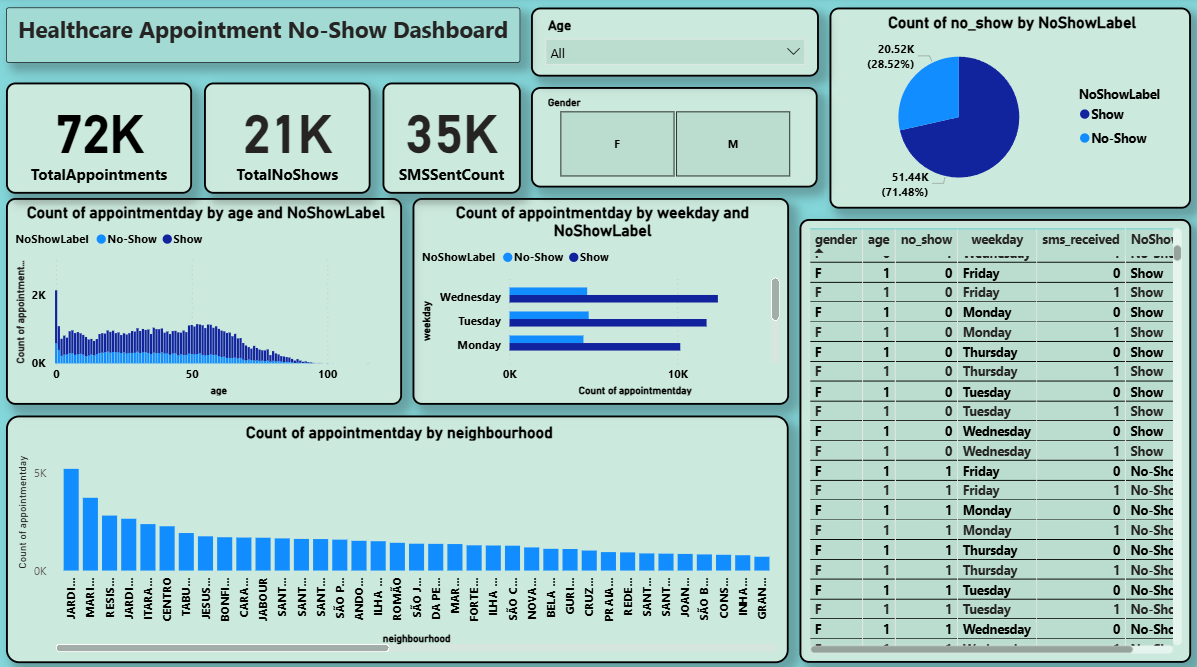

What the dashboard file says about the page in this screenshot:
{"tool":"powerbi","page":{"name":"Page 1","canvas":[1280,720],"ordinal":0},"visuals":[{"type":"pieChart","fields":{"Category":["cleaned_appointments_for_powerbi.NoShowLabel"],"Y":["CountNonNull(cleaned_appointments_for_powerbi.no_show)"]},"box":[886,11.1,383.3,213.1],"z":0},{"type":"clusteredBarChart","fields":{"Category":["cleaned_appointments_for_powerbi.weekday"],"Series":["cleaned_appointments_for_powerbi.NoShowLabel"],"Y":["CountNonNull(cleaned_appointments_for_powerbi.appointmentday)"]},"box":[443.8,213.1,399.2,219.5],"z":1000},{"type":"columnChart","fields":{"Category":["cleaned_appointments_for_powerbi.age"],"Y":["CountNonNull(cleaned_appointments_for_powerbi.appointmentday)"],"Series":["cleaned_appointments_for_powerbi.NoShowLabel"]},"box":[12.7,213.1,419.9,219.5],"z":2000},{"type":"clusteredColumnChart","fields":{"Category":["cleaned_appointments_for_powerbi.neighbourhood"],"Y":["CountNonNull(cleaned_appointments_for_powerbi.appointmentday)"]},"box":[12.7,443.8,830.3,262.5],"z":3000},{"type":"tableEx","fields":{"Values":["cleaned_appointments_for_powerbi.gender","cleaned_appointments_for_powerbi.age","cleaned_appointments_for_powerbi.no_show","cleaned_appointments_for_powerbi.weekday","cleaned_appointments_for_powerbi.sms_received","cleaned_appointments_for_powerbi.NoShowLabel"]},"box":[854.2,235.4,415.1,470.8],"z":4000},{"type":"card","fields":{"Values":["cleaned_appointments_for_powerbi.TotalAppointments"]},"box":[12.7,90.7,197.2,117.7],"z":5000},{"type":"card","fields":{"Values":["cleaned_appointments_for_powerbi.TotalNoShows"]},"box":[222.7,90.7,176.6,117.7],"z":6000},{"type":"card","fields":{"Values":["cleaned_appointments_for_powerbi.SMSSentCount"]},"box":[412,90.7,146.3,117.7],"z":7000},{"type":"slicer","fields":{"Values":["cleaned_appointments_for_powerbi.gender"]},"box":[569.4,95.4,303.8,106.6],"z":8000},{"type":"slicer","fields":{"Values":["cleaned_appointments_for_powerbi.age"]},"box":[569.4,11.1,305.4,73.2],"z":9000},{"type":"textbox","box":[12.7,11.1,545.6,58.9],"z":9001}]}

Visuals, with their boxes in screenshot pixels (x1, y1, x2, y2), scaled from the page's 1280x720 canvas onto the 1197x667 screenshot:
pieChart - cleaned_appointments_for_powerbi.NoShowLabel x CountNonNull(cleaned_appointments_for_powerbi.no_show): <region>829, 10, 1187, 208</region>
clusteredBarChart - cleaned_appointments_for_powerbi.weekday x cleaned_appointments_for_powerbi.NoShowLabel: <region>415, 197, 788, 401</region>
columnChart - cleaned_appointments_for_powerbi.age x CountNonNull(cleaned_appointments_for_powerbi.appointmentday): <region>12, 197, 405, 401</region>
clusteredColumnChart - cleaned_appointments_for_powerbi.neighbourhood x CountNonNull(cleaned_appointments_for_powerbi.appointmentday): <region>12, 411, 788, 654</region>
tableEx - cleaned_appointments_for_powerbi.gender x cleaned_appointments_for_powerbi.age: <region>799, 218, 1187, 654</region>
card - cleaned_appointments_for_powerbi.TotalAppointments: <region>12, 84, 196, 193</region>
card - cleaned_appointments_for_powerbi.TotalNoShows: <region>208, 84, 373, 193</region>
card - cleaned_appointments_for_powerbi.SMSSentCount: <region>385, 84, 522, 193</region>
slicer - cleaned_appointments_for_powerbi.gender: <region>532, 88, 817, 187</region>
slicer - cleaned_appointments_for_powerbi.age: <region>532, 10, 818, 78</region>
textbox: <region>12, 10, 522, 65</region>
